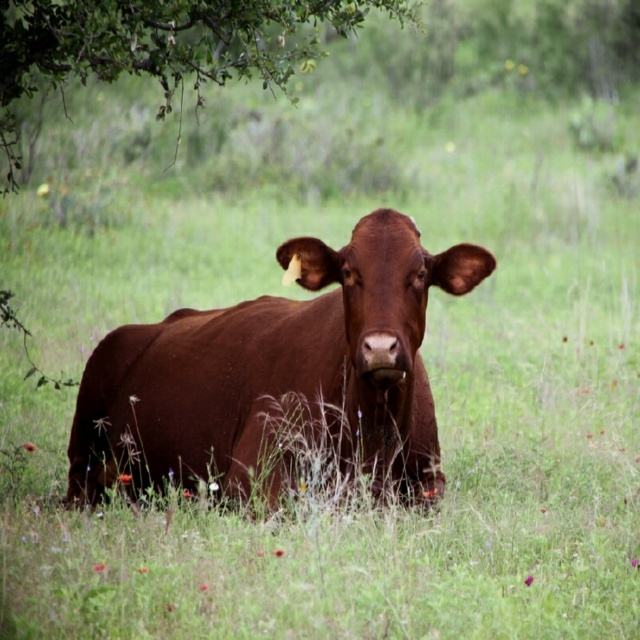Cattle: (65, 207, 498, 523)
